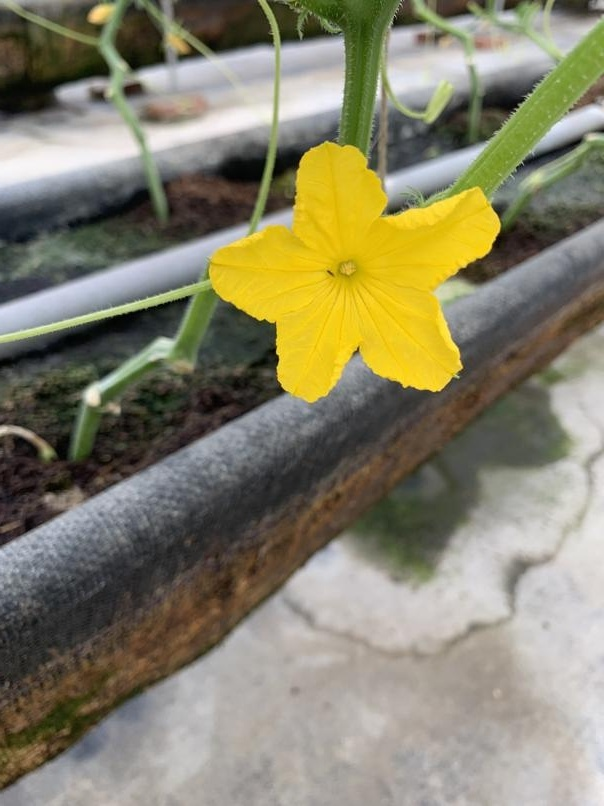flowering: (204, 138, 502, 404)
